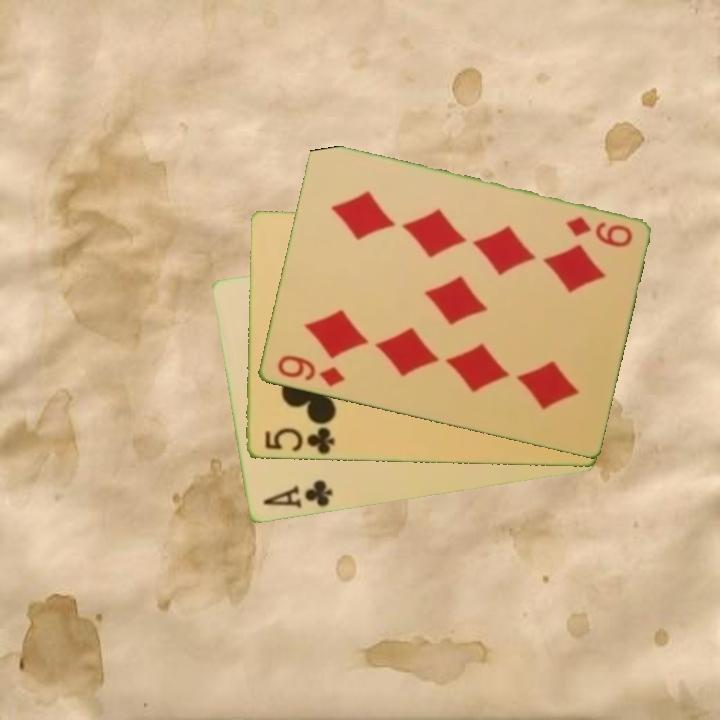5c: (261, 424, 337, 457)
9d: (273, 352, 348, 390), (562, 213, 635, 251)
Ac: (259, 477, 335, 512)
